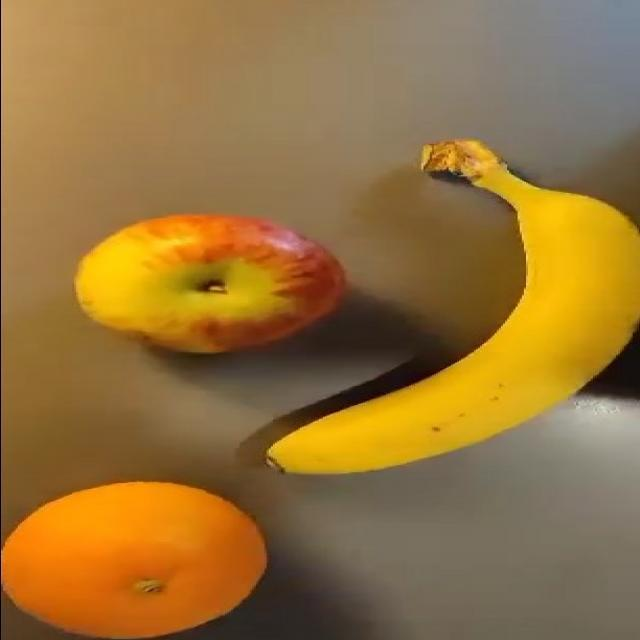Apple: (74, 211, 348, 357)
Banana: (279, 149, 640, 476)
Orange: (0, 475, 268, 640)
